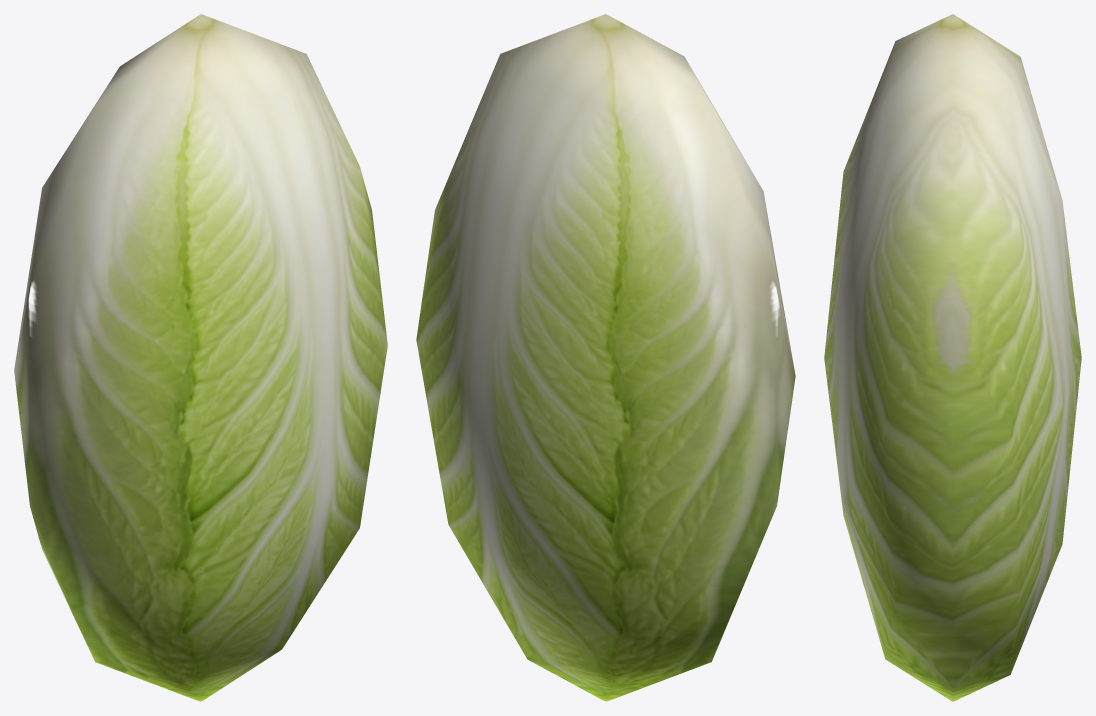
File: napa-cabbage.glb
3 renders of one model, left to right at view 1: azimuth 30°, elevation 25°; view 2: azimuth 150°, elevation 25°; view 3: azimuth 270°, elevation 25°, orthographic.
Parts seen in each view (by area): view 1: napa-cabbage; view 2: napa-cabbage; view 3: napa-cabbage.
Boxes of the visible parts, left/top/right/bottom form: napa-cabbage: left=14, top=14, right=387, bottom=701; napa-cabbage: left=416, top=14, right=795, bottom=701; napa-cabbage: left=824, top=14, right=1081, bottom=701.
Size of the model in its own units: 0.5464 by 1.05 by 0.3562.
Materials: 1 (1 with a texture image).
